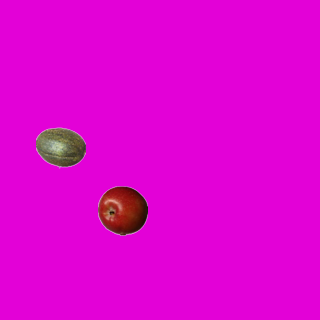Apple Braeburn: (97, 185, 147, 235)
Melon Piel de Sapo: (35, 122, 85, 172)
